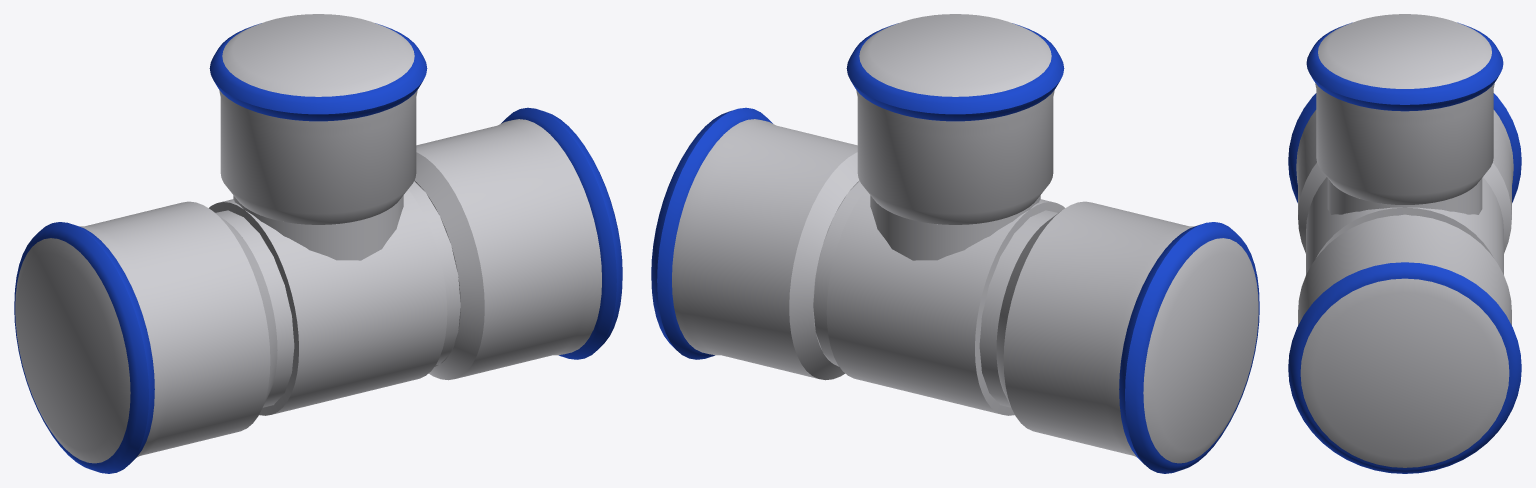
The model's file is fitting_tee_42x35.glb.
The picture shows the model from 3 angles, left to right: view 1: azimuth 30°, elevation 25°; view 2: azimuth 150°, elevation 25°; view 3: azimuth 270°, elevation 25°; orthographic projection. The views are drawn at different scales.
Parts seen in each view (by area): view 1: раструб.001, раструб, раструб.002, узел, кольцо пресс.001, кольцо пресс.002, корпус, кольцо пресс, корпус.001; view 2: раструб.001, раструб, раструб.002, узел, кольцо пресс.001, кольцо пресс.002, корпус, кольцо пресс, корпус.001; view 3: раструб, раструб.002, кольцо пресс, узел, кольцо пресс.002, раструб.001, корпус.001, кольцо пресс.001.
Boxes of the visible parts, x1,y1,x2,y2 form: раструб.001: [15, 201, 277, 463]; раструб: [414, 119, 601, 380]; раструб.002: [219, 14, 417, 224]; узел: [209, 189, 447, 415]; кольцо пресс.001: [14, 222, 154, 473]; кольцо пресс.002: [209, 23, 427, 121]; корпус: [215, 181, 460, 407]; кольцо пресс: [501, 107, 622, 359]; корпус.001: [233, 195, 403, 260]; раструб.001: [996, 201, 1258, 463]; раструб: [672, 119, 859, 380]; раструб.002: [856, 14, 1054, 224]; узел: [826, 189, 1064, 415]; кольцо пресс.001: [1119, 222, 1259, 473]; кольцо пресс.002: [846, 23, 1064, 121]; корпус: [813, 181, 1058, 407]; кольцо пресс: [651, 107, 772, 359]; корпус.001: [870, 195, 1040, 260]; раструб: [1298, 215, 1511, 467]; раструб.002: [1315, 14, 1494, 204]; кольцо пресс: [1288, 262, 1521, 473]; узел: [1306, 177, 1503, 274]; кольцо пресс.002: [1306, 22, 1503, 111]; раструб.001: [1296, 110, 1513, 253]; корпус.001: [1327, 178, 1482, 214]; кольцо пресс.001: [1288, 93, 1521, 202].
Bounding box in the file's own units: 0.129 × 0.0877 × 0.0573.
